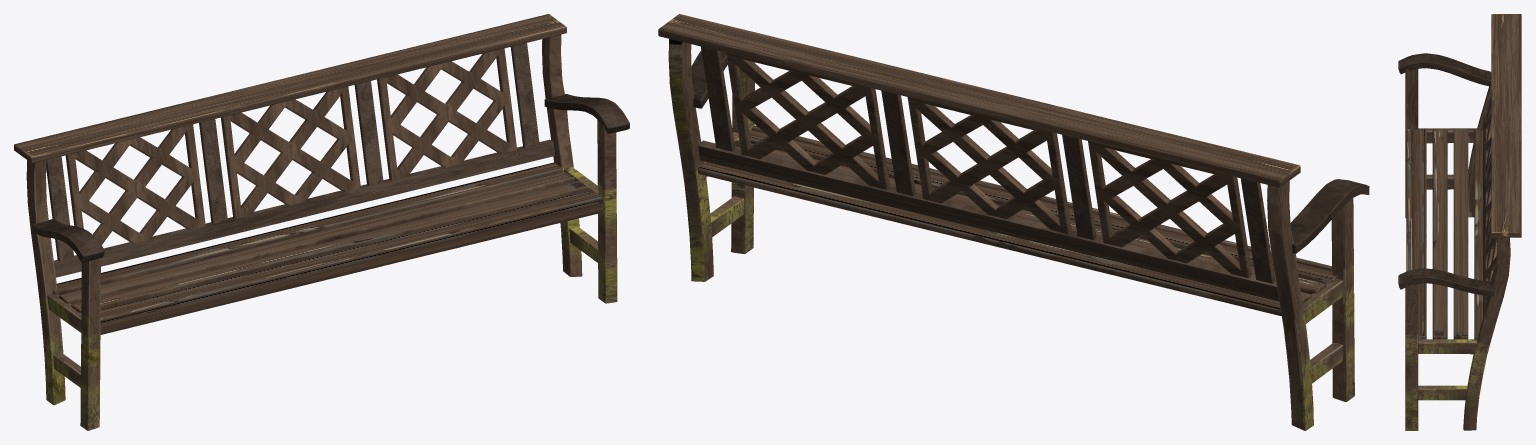
Rendered from bench2.glb.
3 renders of one model, left to right at view 1: azimuth 30°, elevation 25°; view 2: azimuth 150°, elevation 25°; view 3: azimuth 270°, elevation 25°, orthographic. The views are drawn at different scales.
Parts seen in each view (by area): view 1: Plane.009_11, Plane.008_10, Plane.010_12, Plane.011_13, Plane.005_7, Plane.003_5, Plane.001_3, Plane.007_9, Plane.004_6, Plane.006_8, Plane_2, Plane.002_4; view 2: Plane.008_10, Plane.009_11, Plane.010_12, Plane.007_9, Plane.005_7, Plane.003_5, Plane.001_3, Plane.011_13, Plane_2, Plane.004_6, Plane.002_4, Plane.006_8; view 3: Plane.009_11, Plane.011_13, Plane.008_10, Plane.010_12, Plane.007_9, Plane.005_7, Plane.001_3, Plane.003_5.
Part boxes in pixels (x1,y1,x2,y2): Plane.009_11: (53,162,603,334); Plane.008_10: (14,14,566,163); Plane.010_12: (26,160,104,430); Plane.011_13: (542,34,629,303); Plane.005_7: (377,48,516,180); Plane.003_5: (221,86,360,218); Plane.001_3: (65,124,205,244); Plane.007_9: (54,139,554,277); Plane.004_6: (354,81,383,185); Plane.006_8: (510,43,539,147); Plane_2: (199,119,227,223); Plane.002_4: (46,156,73,261); Plane.008_10: (658,14,1300,187); Plane.009_11: (698,125,1336,316); Plane.010_12: (1267,179,1369,430); Plane.007_9: (698,140,1279,301); Plane.005_7: (726,52,890,189); Plane.003_5: (907,97,1071,233); Plane.001_3: (1088,141,1251,277); Plane.011_13: (668,39,754,281); Plane_2: (1062,134,1096,240); Plane.004_6: (881,90,915,195); Plane.002_4: (1240,178,1275,283); Plane.006_8: (701,46,735,151); Plane.009_11: (1406,128,1482,339); Plane.011_13: (1398,237,1510,430); Plane.008_10: (1491,14,1521,237); Plane.010_12: (1398,53,1491,217); Plane.007_9: (1483,111,1488,317); Plane.005_7: (1485,230,1497,300); Plane.001_3: (1485,103,1491,173); Plane.003_5: (1485,166,1491,237).
Size of the model in its own units: 2.59 by 1.07 by 0.6041.
Materials: 8 (8 with a texture image).
